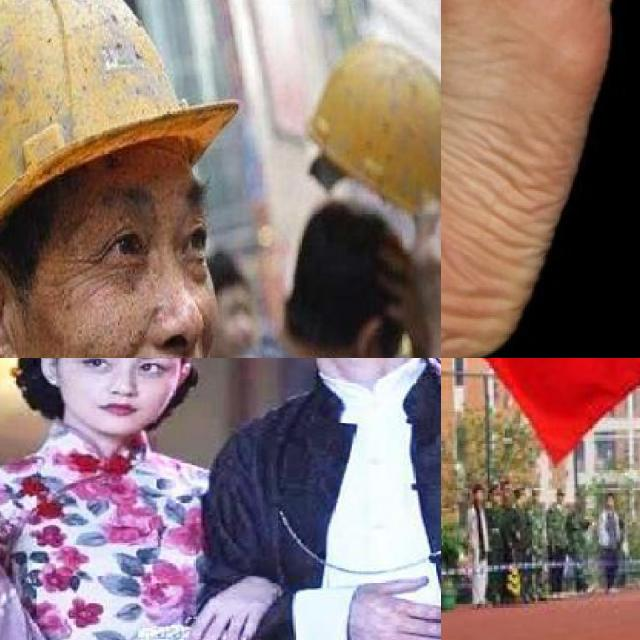Barefoots: (441, 0, 624, 358)
No_Ear-Protection: (0, 241, 31, 358)
No_Glasses: (59, 181, 215, 276), (72, 358, 175, 381)
face_nomask: (25, 168, 225, 358), (67, 358, 165, 426)
hand_noglove: (377, 236, 436, 358), (344, 575, 441, 640), (185, 576, 281, 640), (407, 205, 441, 325)
head_helmet: (0, 0, 233, 191), (296, 40, 441, 205)
head_nohelmet: (319, 190, 415, 262)
person: (0, 0, 422, 358), (0, 358, 229, 640), (230, 358, 441, 640)
